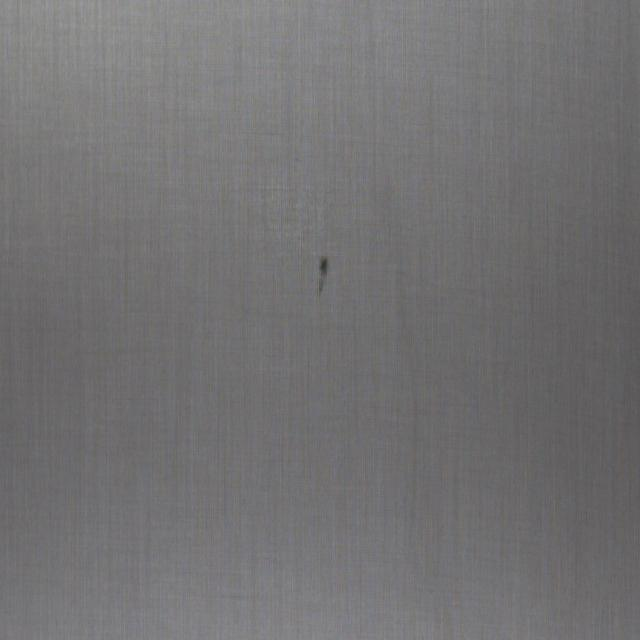dirty: (317, 256, 328, 294)
